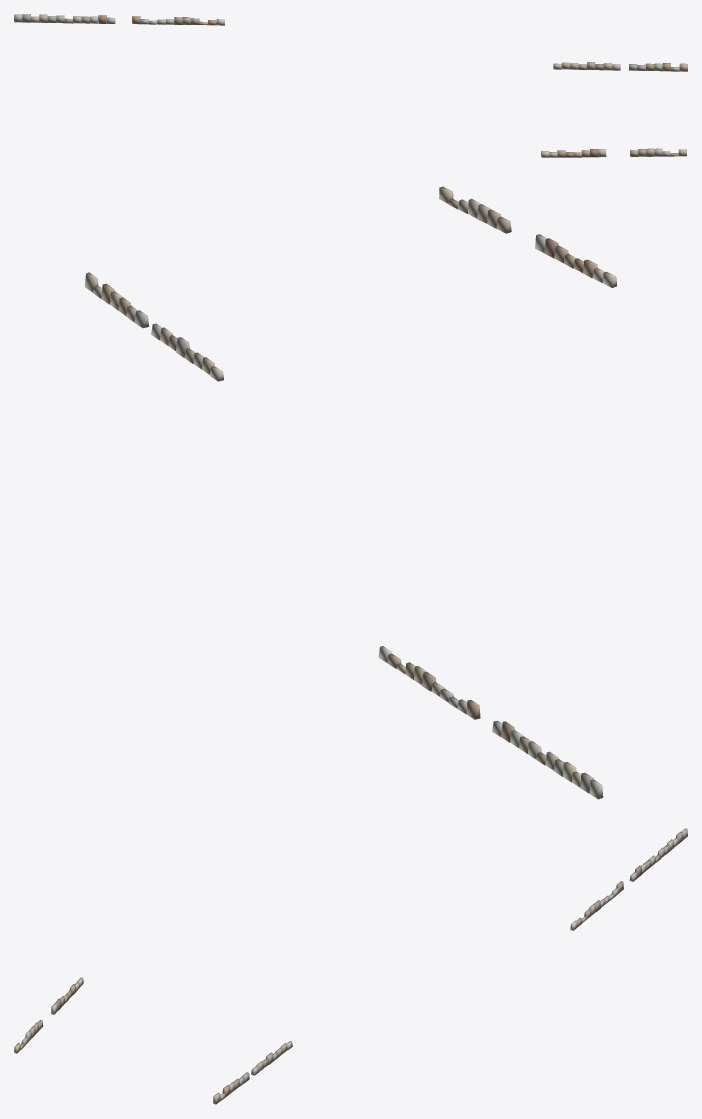
The model's file is farm_13_13_far.glb.
3 views of the same model, one above another, from view 1: azimuth 30°, elevation 25°; view 2: azimuth 150°, elevation 25°; view 3: azimuth 270°, elevation 25° (orthographic). The views are drawn at different scales.
Parts seen in each view (by area): view 1: geometry_0; view 2: geometry_0; view 3: geometry_0.
Part boxes in pixels (x1,y1,x2,y2): geometry_0: (14, 14, 687, 157); geometry_0: (85, 186, 616, 799); geometry_0: (14, 828, 687, 1104).
Bounding box in the file's own units: 101 × 3.55 × 112.
